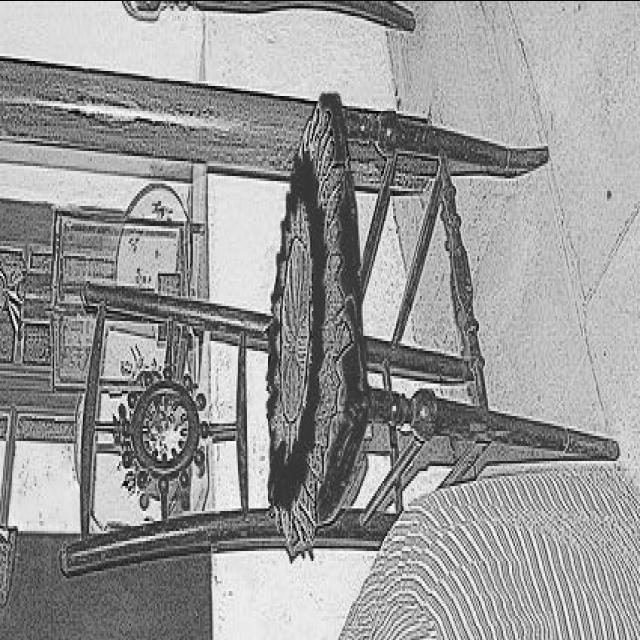chair: (52, 96, 622, 576)
